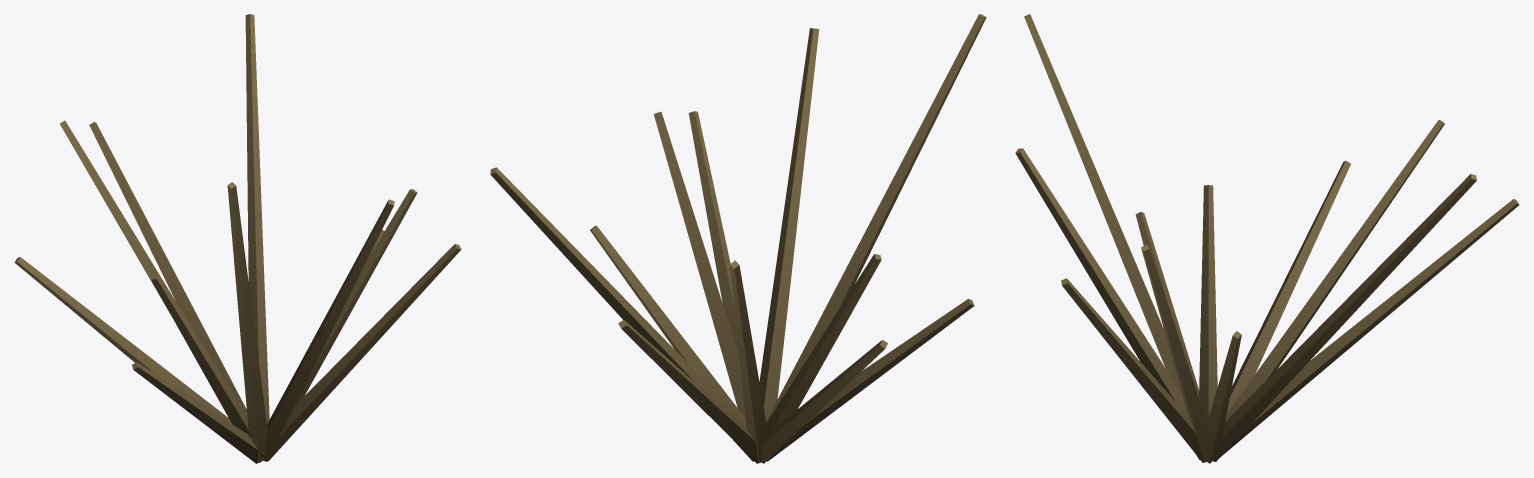
Rendered from drybush.glb.
3 renders of one model, left to right at view 1: azimuth 30°, elevation 25°; view 2: azimuth 150°, elevation 25°; view 3: azimuth 270°, elevation 25°, orthographic. The views are drawn at different scales.
Parts seen in each view (by area): view 1: part_0; view 2: part_0; view 3: part_0.
Boxes of the visible parts, left/top/right/bottom form: part_0: left=14, top=14, right=461, bottom=463; part_0: left=490, top=14, right=986, bottom=463; part_0: left=1015, top=14, right=1519, bottom=463.
Bounding box in the file's own units: 0.5052 × 0.5576 × 0.6549.
